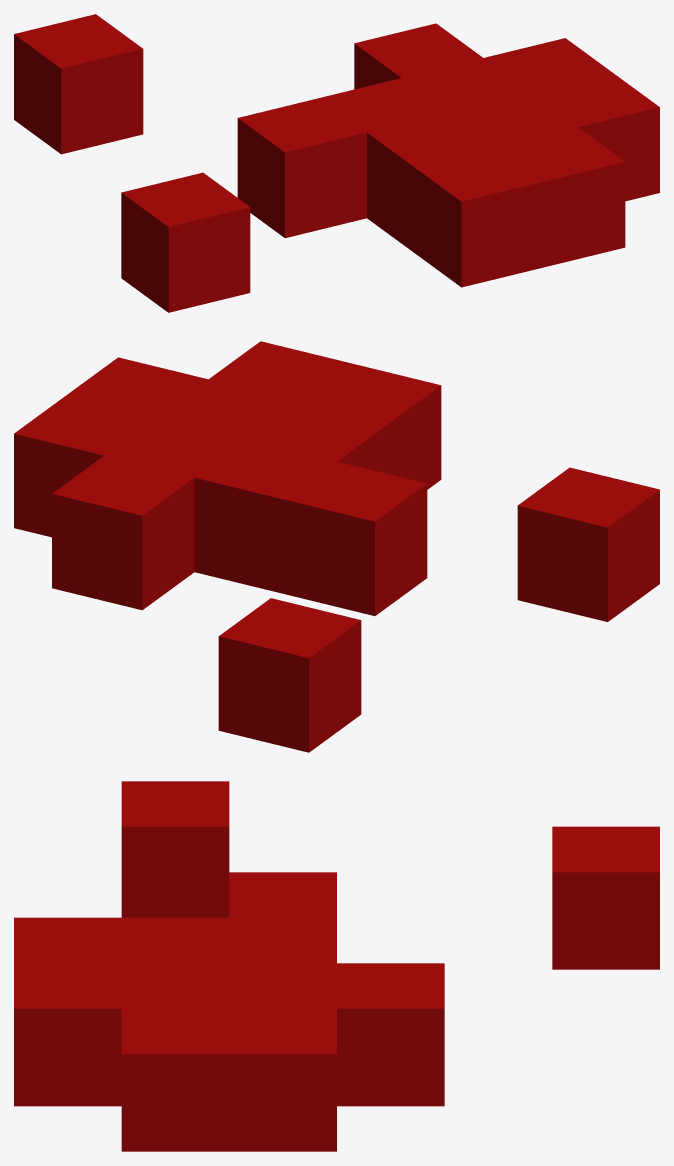
File: obj_splatter2.fbx
The picture shows the model from 3 angles, top to bottom: view 1: azimuth 30°, elevation 25°; view 2: azimuth 150°, elevation 25°; view 3: azimuth 270°, elevation 25°; orthographic projection. The views are drawn at different scales.
Visible parts, largest first — view 1: obj_splatter2; view 2: obj_splatter2; view 3: obj_splatter2.
Part boxes in pixels (x1,y1,x2,y2): obj_splatter2: [14, 14, 659, 312]; obj_splatter2: [14, 341, 659, 752]; obj_splatter2: [14, 781, 659, 1151].
Bounding box in the file's own units: 0.6 × 0.6 × 0.1.
Materials: 1 (1 with a texture image).
